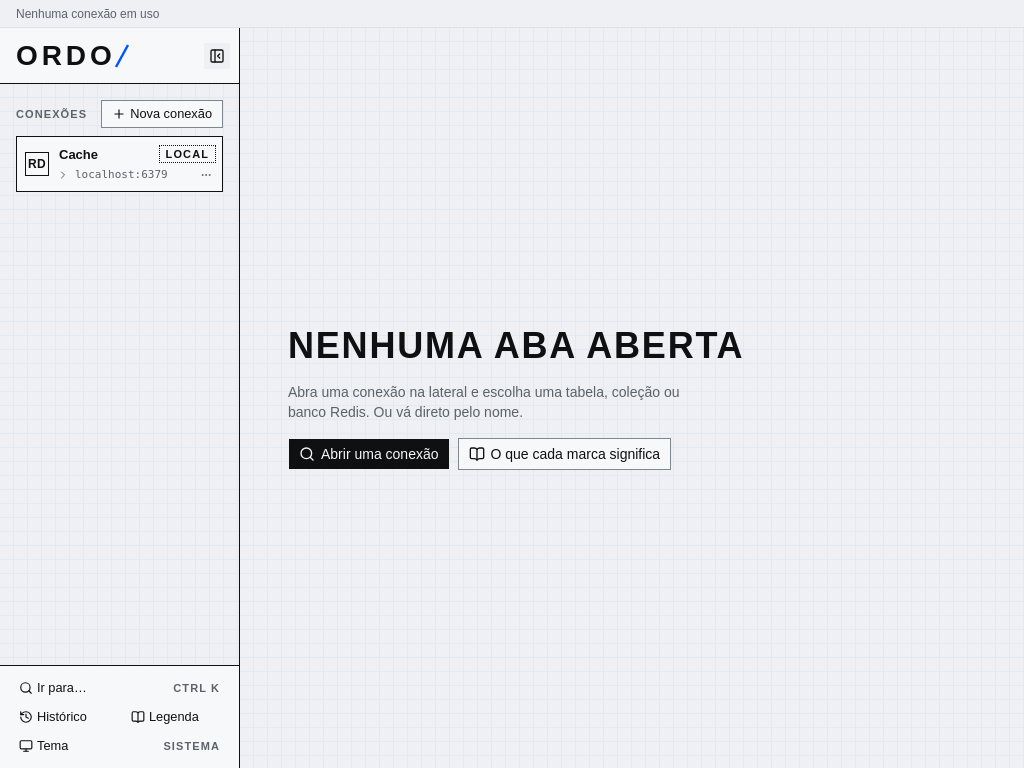
Test case: the server panel lists the loaded modules, or says MODULE LIST is refused
Click the list item "RD Cache Local localhost:6379": (120, 164) [17,137,222,191]
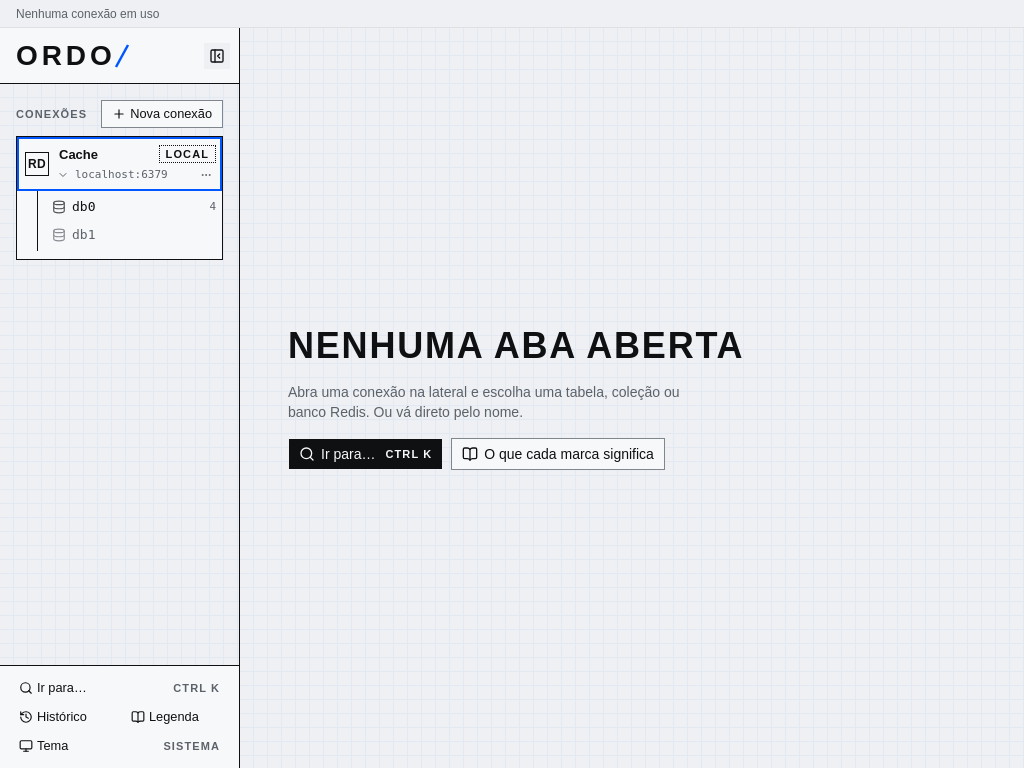
Click the list item "db0 4": (134, 207) [46,193,222,221]
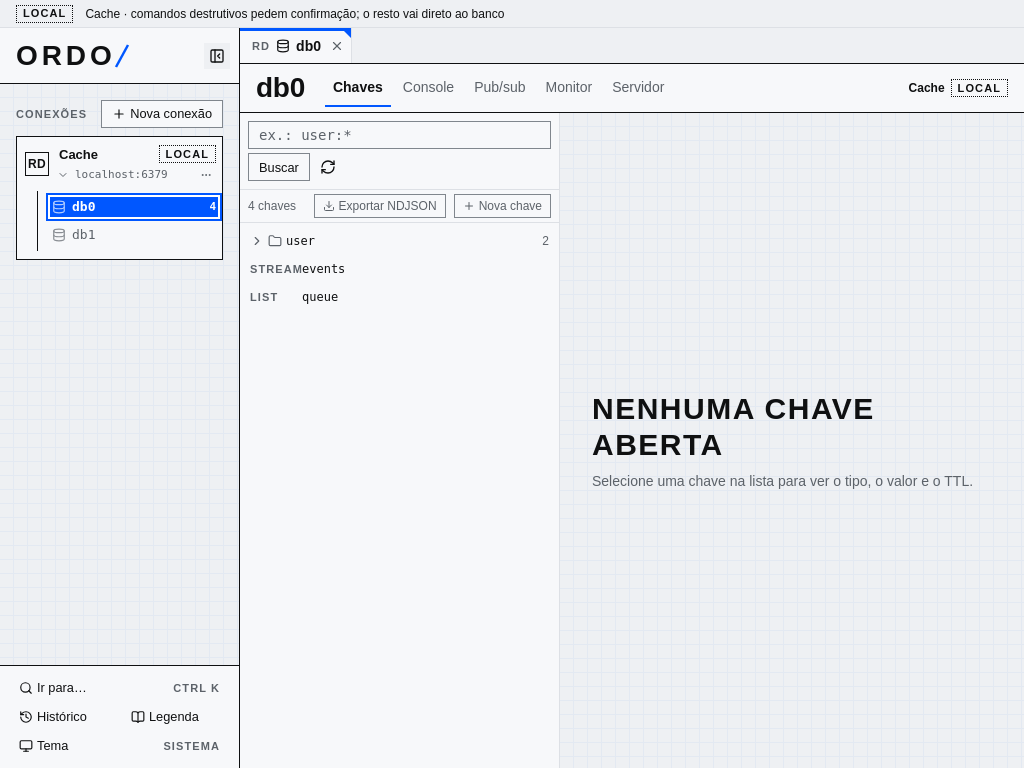
Expected: the list named "Chaves" is shown, [244,227,555,311]
Click the tab "Servidor": (638, 88) [604,69,672,107]
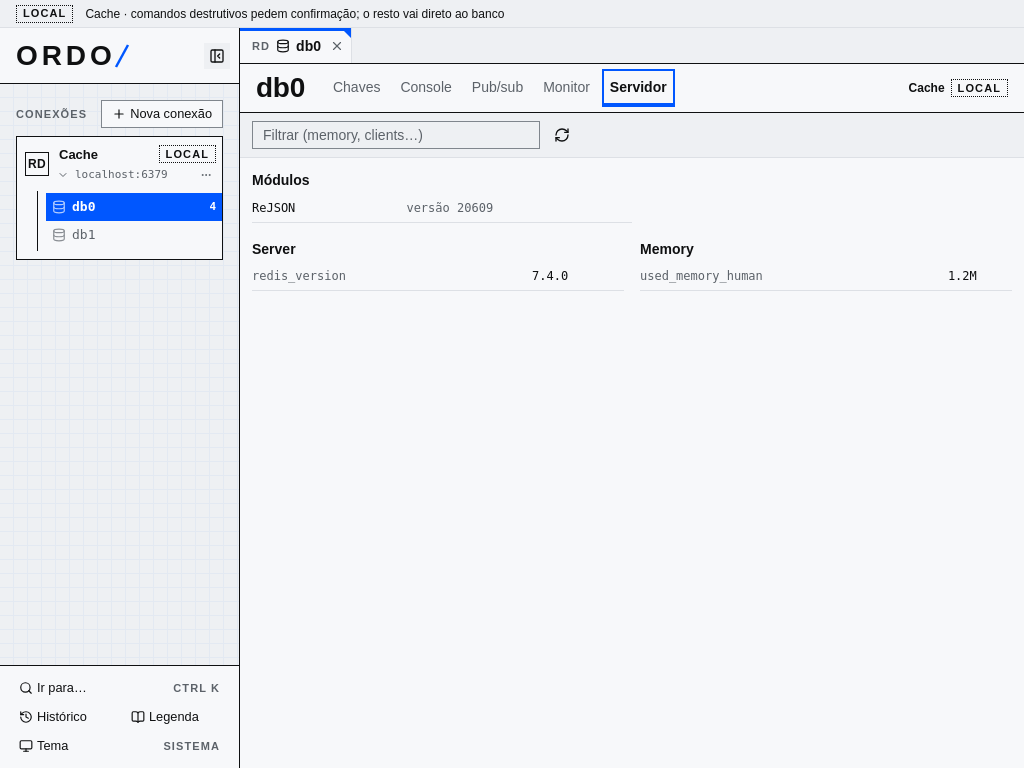
Expected: the text "ReJSON" is shown, [252,194,406,222]
Expected: the text "versão 20609" is shown, [406,194,632,222]
